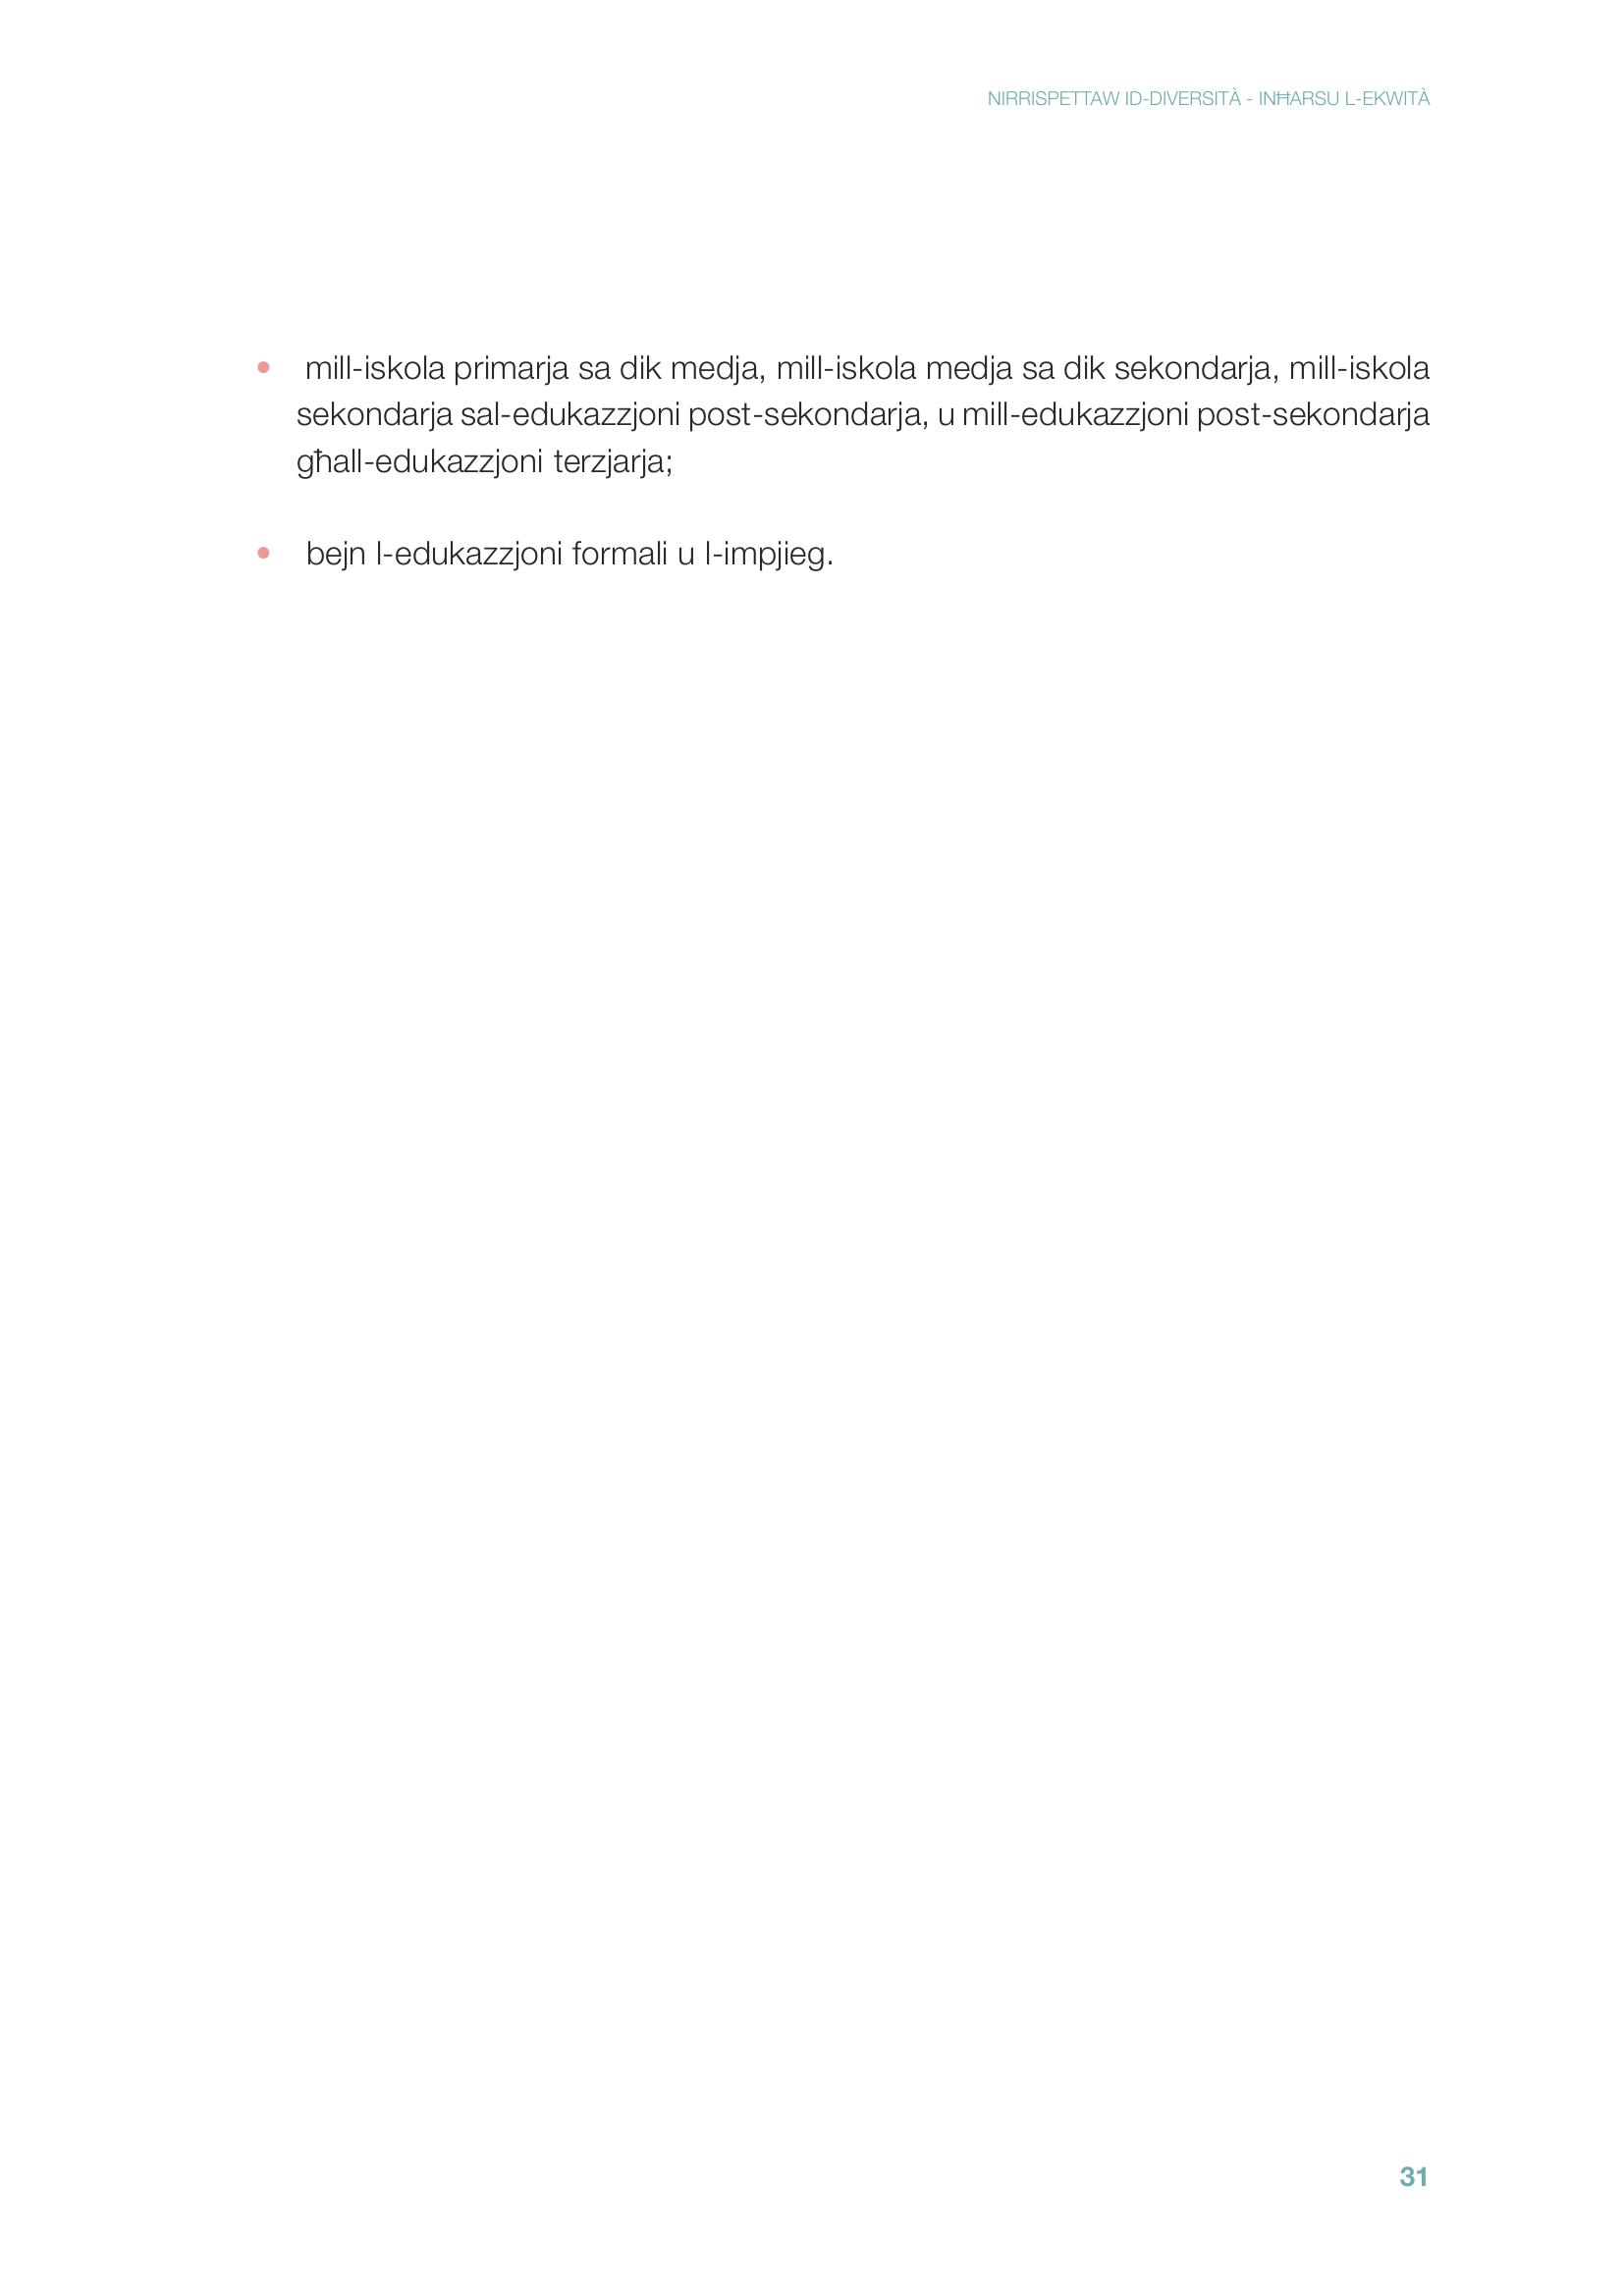text: (227, 341, 1439, 588)
